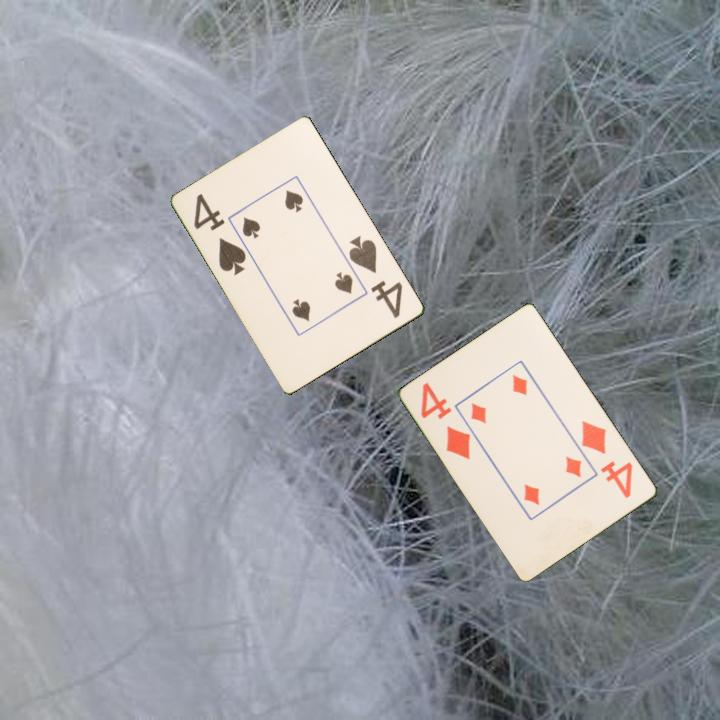4d: (578, 417, 636, 501), (417, 379, 474, 462)
4s: (345, 232, 406, 321), (190, 190, 250, 279)
